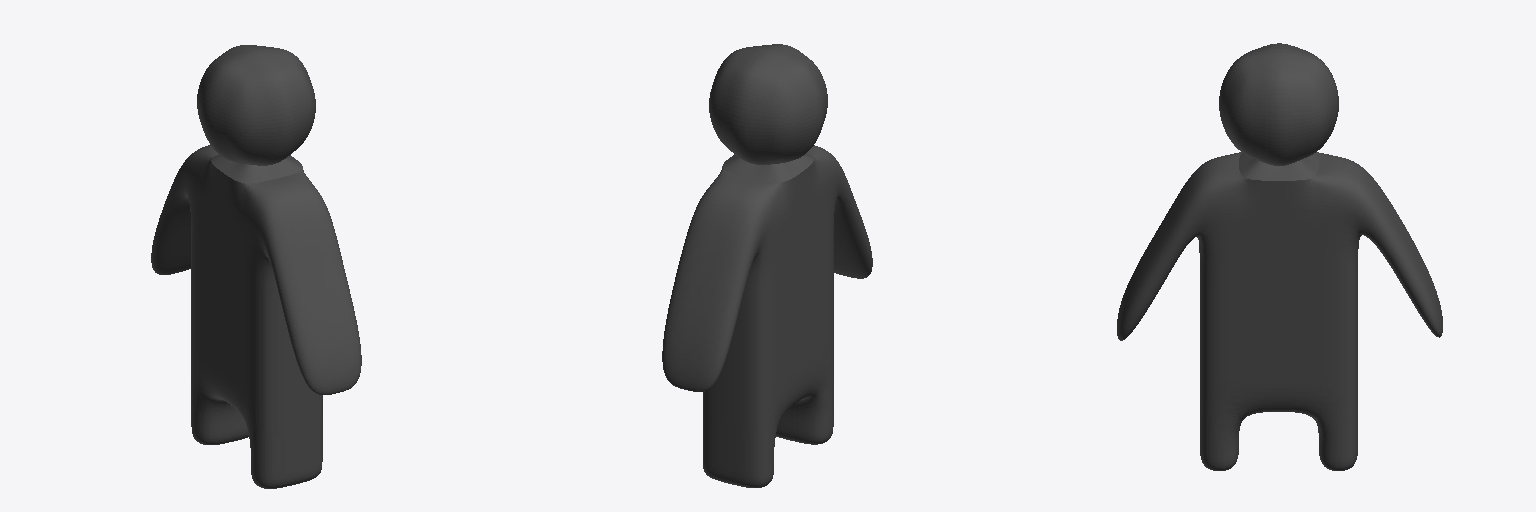
File: tmpboss.obj
3 renders of one model, left to right at view 1: azimuth 30°, elevation 25°; view 2: azimuth 150°, elevation 25°; view 3: azimuth 270°, elevation 25°, orthographic.
Visible parts, largest first — view 1: Map1&Map2_v18_Boss_0; view 2: Map1&Map2_v18_Boss_0; view 3: Map1&Map2_v18_Boss_0.
Boxes of the visible parts, x1,y1,x2,y2 form: Map1&Map2_v18_Boss_0: [151, 45, 361, 488]; Map1&Map2_v18_Boss_0: [662, 44, 872, 487]; Map1&Map2_v18_Boss_0: [1117, 43, 1442, 470].
Bounding box in the file's own units: 11.33 × 42.62 × 30.78.